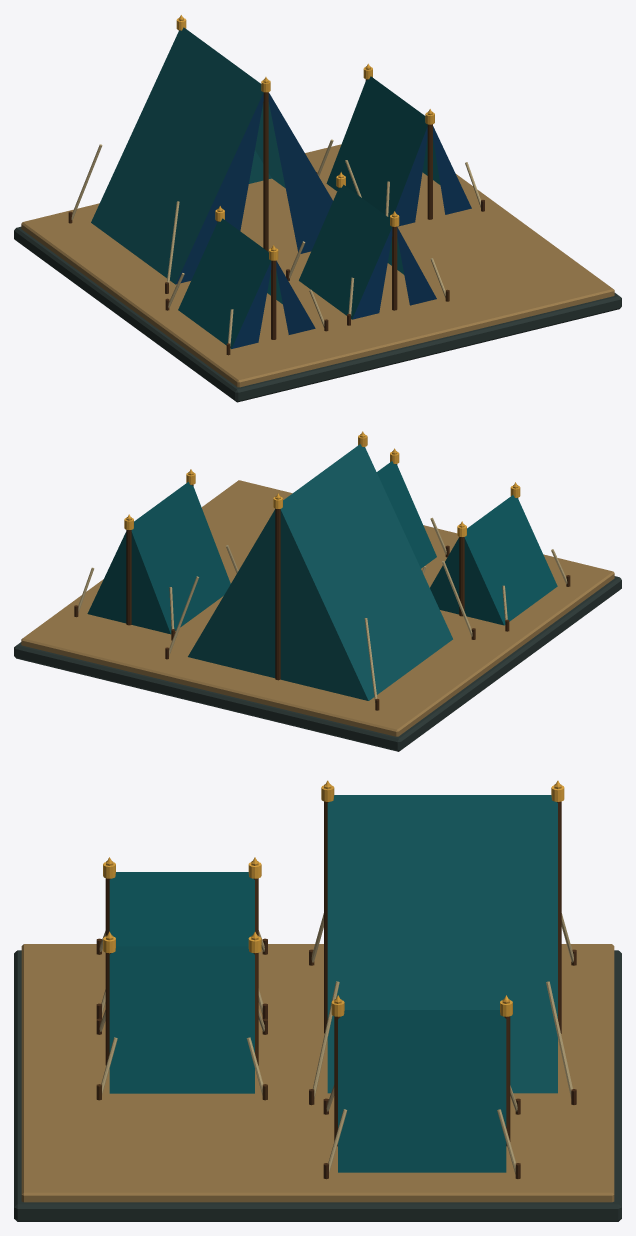
The picture shows the model from 3 angles, top to bottom: view 1: azimuth 30°, elevation 25°; view 2: azimuth 150°, elevation 25°; view 3: azimuth 270°, elevation 25°; orthographic projection. The views are drawn at different scales.
Parts seen in each view (by area): view 1: camp_level4_structure, camp_level4_metal; view 2: camp_level4_structure, camp_level4_metal; view 3: camp_level4_structure, camp_level4_metal.
Part boxes in pixels (x1,y1,x2,y2): camp_level4_structure: (14, 17, 621, 402); camp_level4_metal: (176, 15, 434, 260); camp_level4_structure: (14, 434, 621, 751); camp_level4_metal: (124, 431, 520, 536); camp_level4_structure: (14, 784, 621, 1221); camp_level4_metal: (103, 780, 564, 1016).
Size of the model in its own units: 5.6 by 2.87 by 5.6.
